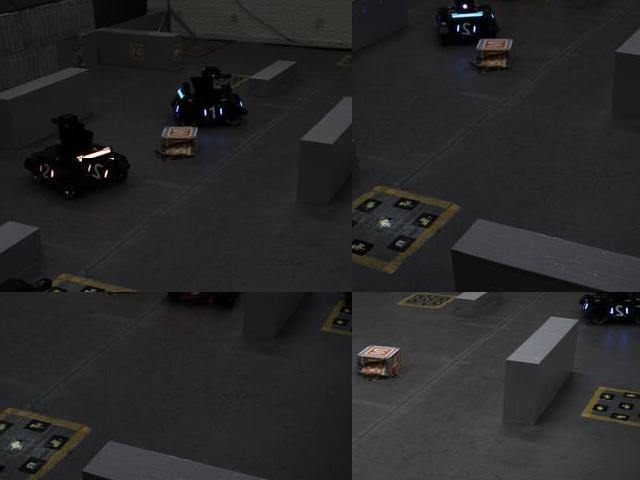armor: (83, 159, 116, 184), (36, 157, 57, 185), (199, 101, 225, 123), (452, 22, 484, 38), (607, 300, 633, 319), (181, 292, 212, 302)
